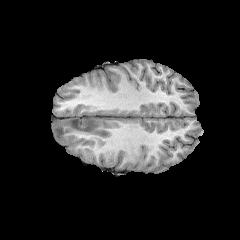glioma: (53, 118, 112, 142)
